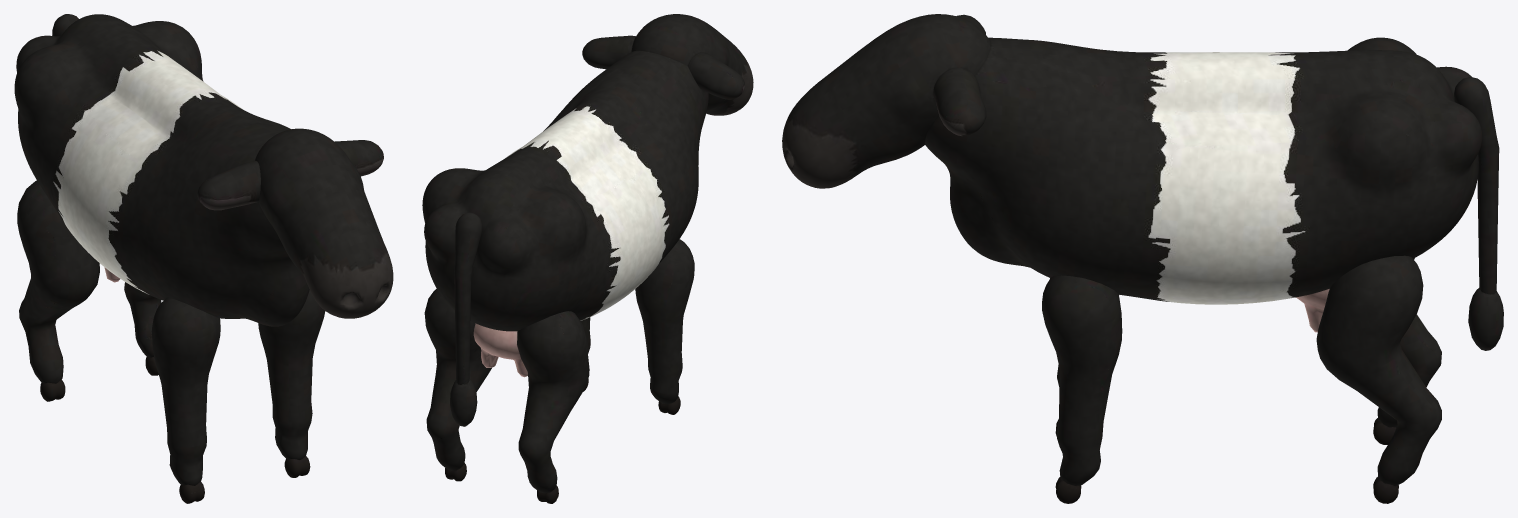
File: animal_belted_galloway.glb
The picture shows the model from 3 angles, left to right: view 1: azimuth 30°, elevation 25°; view 2: azimuth 150°, elevation 25°; view 3: azimuth 270°, elevation 25°; orthographic projection. The views are drawn at different scales.
Visible parts, largest first — view 1: animal_belted_galloway, head, leg2, leg0, leg1, leg3; view 2: animal_belted_galloway, leg2, head, leg0, leg3, tail; view 3: animal_belted_galloway, head, leg3, leg1, tail, leg2.
Boxes of the visible parts, bbox=[...] form: animal_belted_galloway: bbox=[14, 14, 309, 326]; head: bbox=[197, 128, 393, 318]; leg2: bbox=[17, 180, 99, 401]; leg0: bbox=[151, 298, 220, 503]; leg1: bbox=[258, 290, 325, 477]; leg3: bbox=[124, 282, 161, 375]; animal_belted_galloway: bbox=[422, 50, 708, 377]; leg2: bbox=[517, 311, 589, 503]; head: bbox=[582, 14, 753, 115]; leg0: bbox=[635, 239, 694, 414]; leg3: bbox=[424, 288, 491, 481]; tail: bbox=[450, 212, 482, 426]; animal_belted_galloway: bbox=[925, 37, 1482, 332]; head: bbox=[782, 14, 990, 188]; leg3: bbox=[1316, 255, 1441, 503]; leg1: bbox=[1042, 275, 1122, 503]; tail: bbox=[1454, 77, 1503, 350]; leg2: bbox=[1373, 258, 1441, 444].
Bounding box in the file's own units: 0.2778 × 0.5618 × 0.8126.
Materials: 1 (1 with a texture image).
